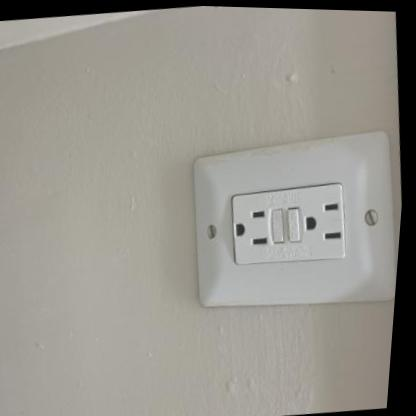OUTLET: (178, 132, 407, 321)
